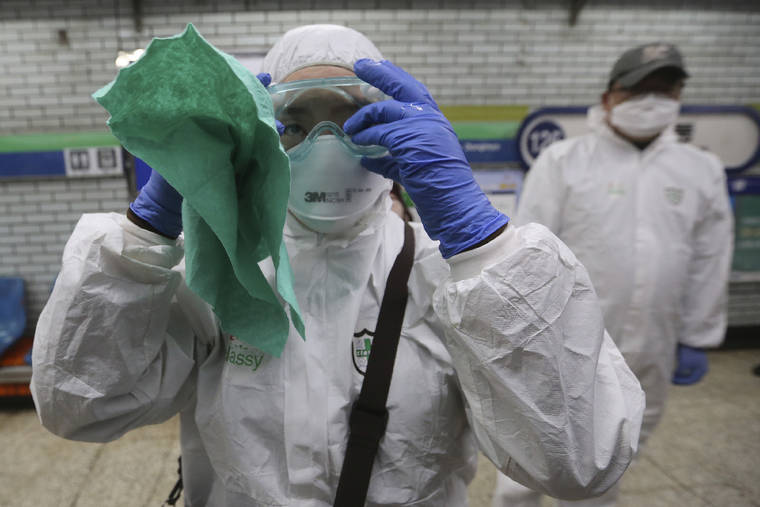n95: (270, 133, 423, 233), (604, 94, 682, 140)
